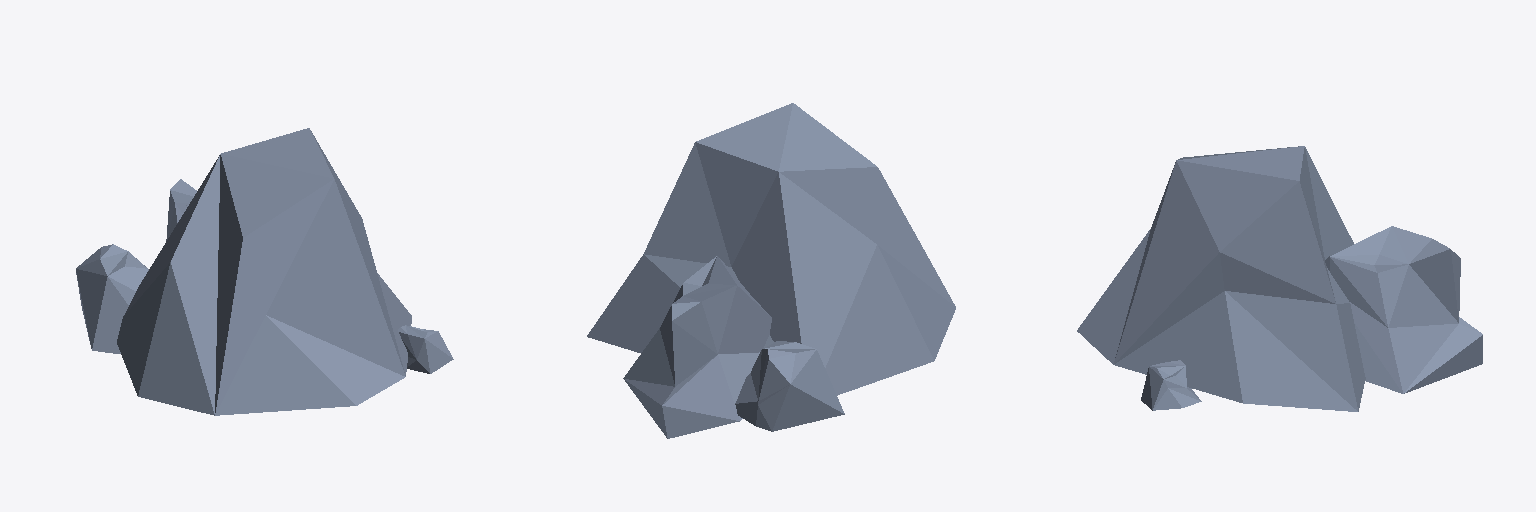
The picture shows the model from 3 angles: view 1: azimuth 30°, elevation 25°; view 2: azimuth 150°, elevation 25°; view 3: azimuth 270°, elevation 25°; orthographic projection.
Parts seen in each view (by area): view 1: group[number redacted], group[number redacted], group[number redacted], group[number redacted]; view 2: group[number redacted], group[number redacted], group[number redacted]; view 3: group[number redacted], group[number redacted], group[number redacted].
Part boxes in pixels (x1,y1,x2,y2): group[number redacted]: (117, 128, 411, 415); group[number redacted]: (76, 244, 148, 353); group[number redacted]: (398, 325, 453, 373); group[number redacted]: (166, 179, 196, 240); group[number redacted]: (587, 103, 955, 395); group[number redacted]: (623, 256, 771, 438); group[number redacted]: (735, 341, 844, 431); group[number redacted]: (1077, 146, 1365, 411); group[number redacted]: (1325, 226, 1482, 393); group[number redacted]: (1141, 360, 1201, 410).
Size of the model in its own units: 0.1454 by 0.1062 by 0.1799.
Materials: 1 (1 with a texture image).